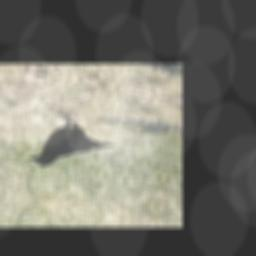Crow: (25, 109, 117, 181)
